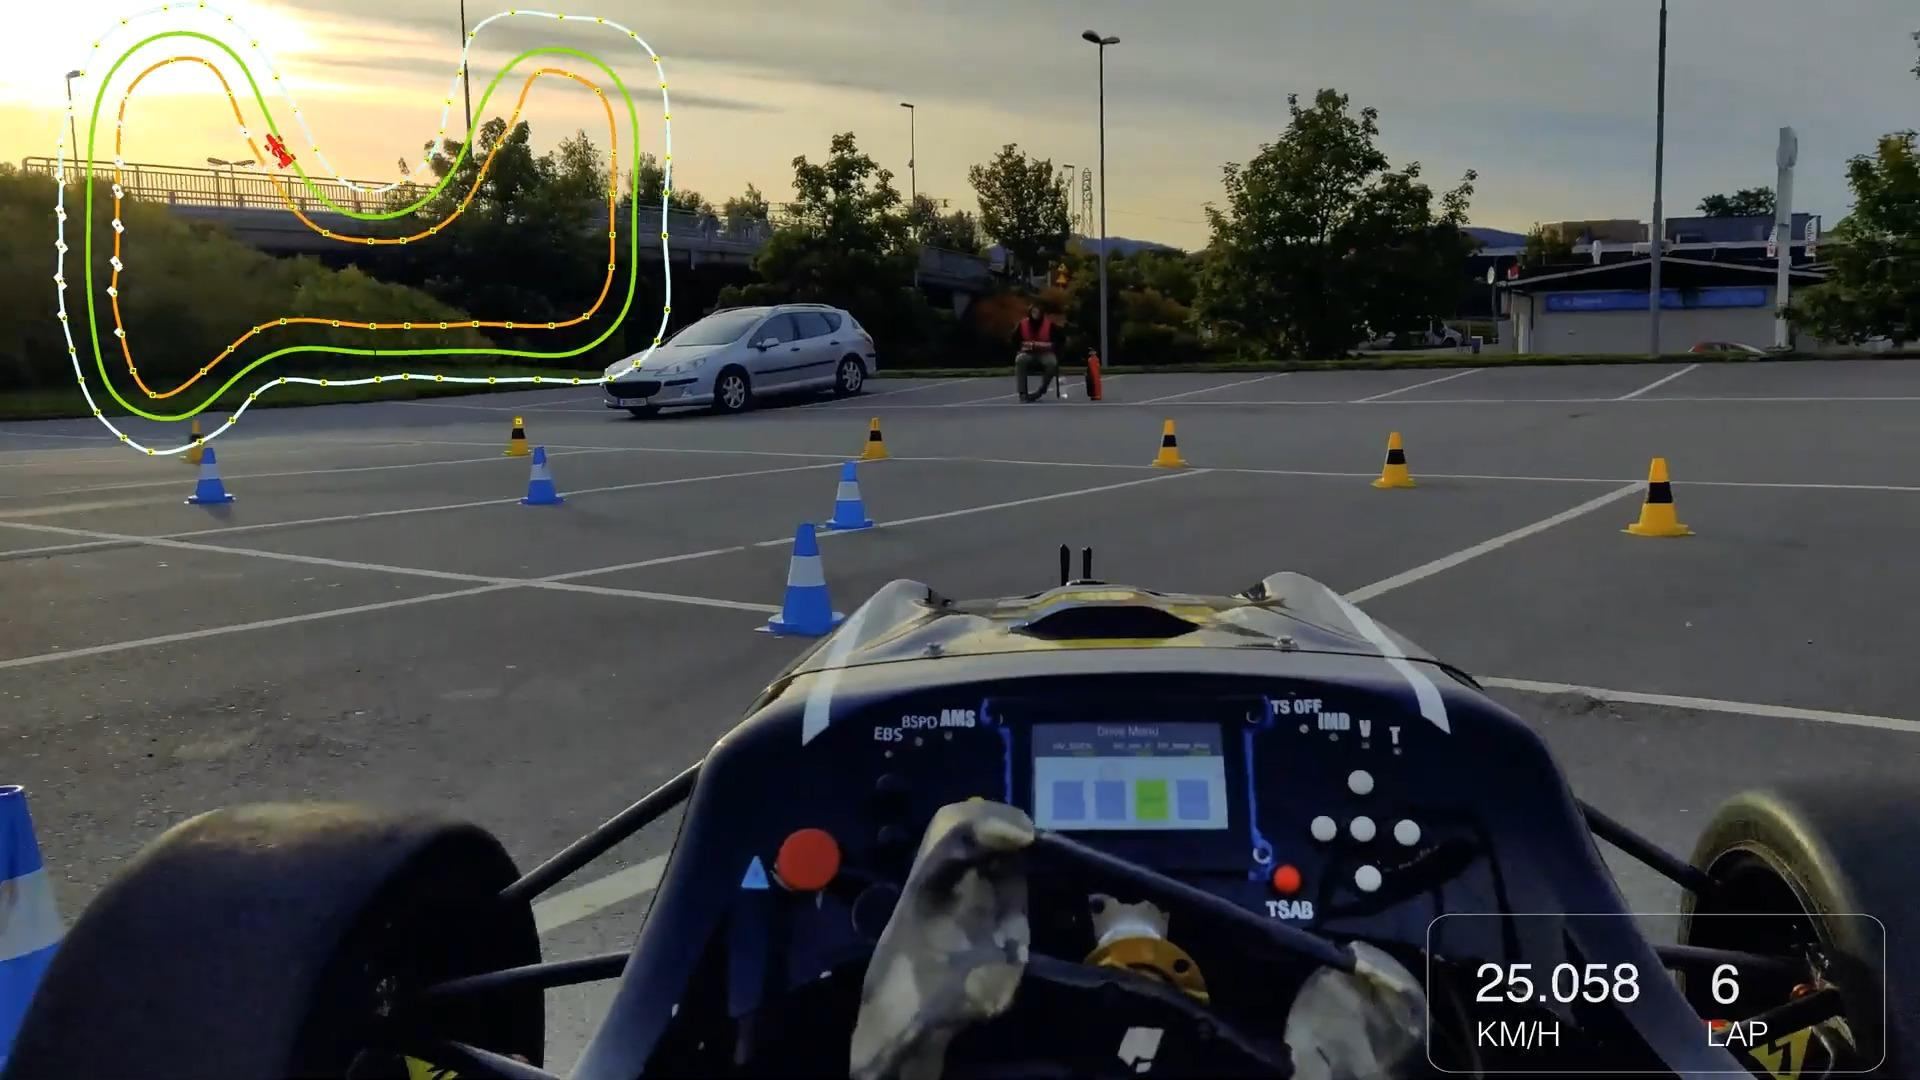blue_cone: (0, 770, 102, 1064), (753, 520, 851, 637), (816, 458, 878, 533), (522, 443, 567, 506), (186, 447, 235, 505)
yellow_cone: (1619, 450, 1692, 543), (1369, 431, 1420, 496), (1150, 414, 1189, 475), (856, 409, 894, 463), (179, 417, 211, 464), (504, 414, 535, 459)
